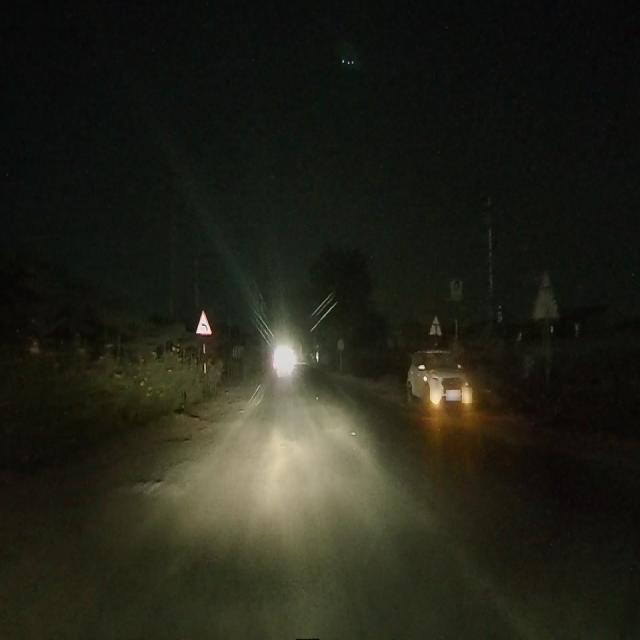left-hand-curve: (197, 311, 210, 334)
